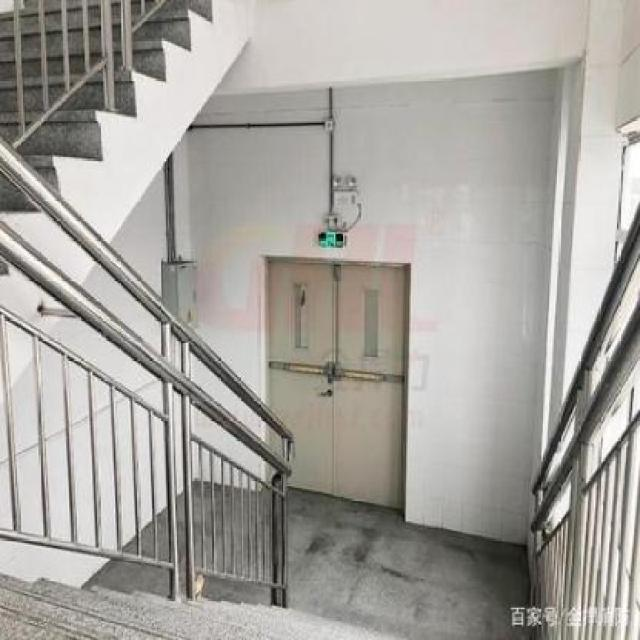exit_sign: (312, 223, 351, 251)
